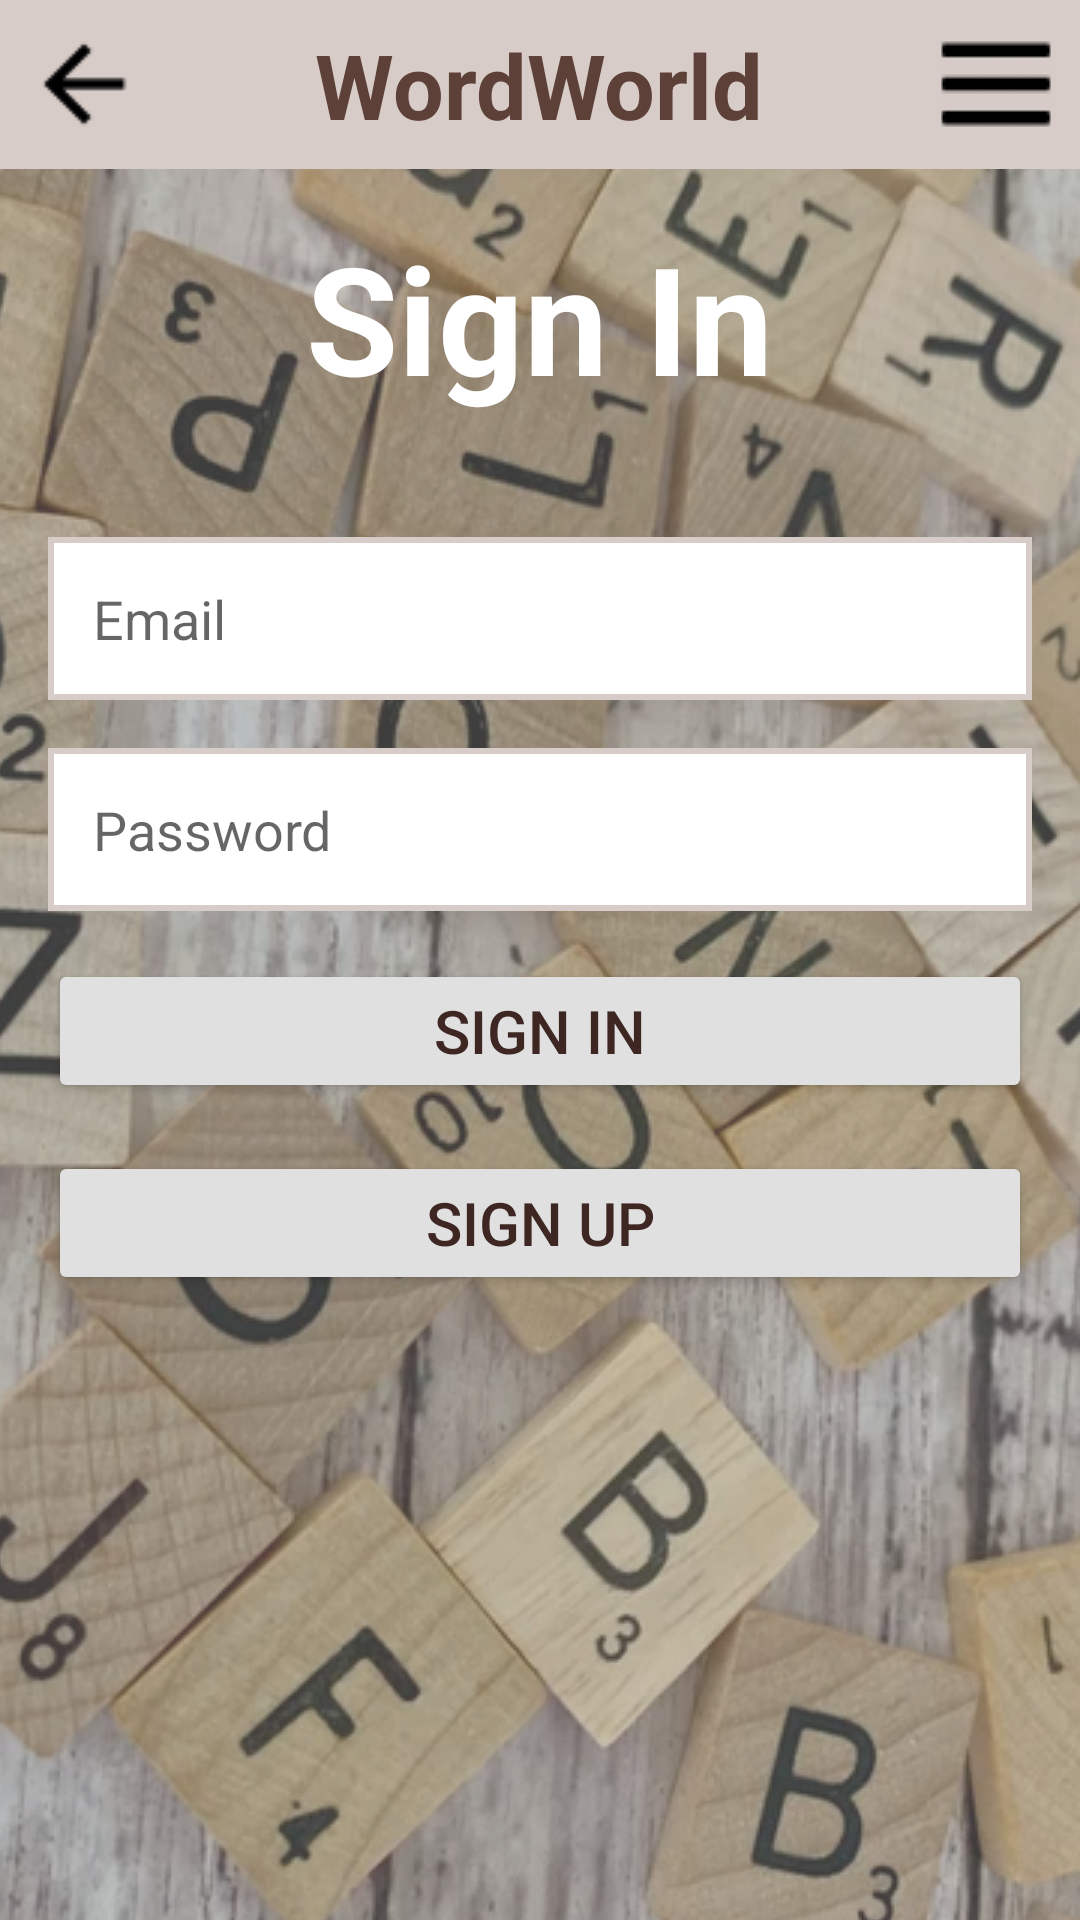

Where icons sit on this 1080px×1920px app screen, as region(x1, y1, x2, y2):
Back: region(44, 44, 127, 124)
Navigation: region(941, 41, 1051, 127)
